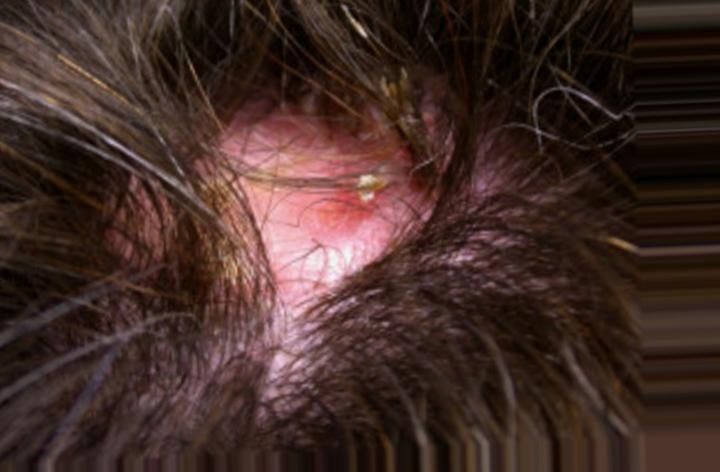Folliculitis: (180, 105, 432, 390)
